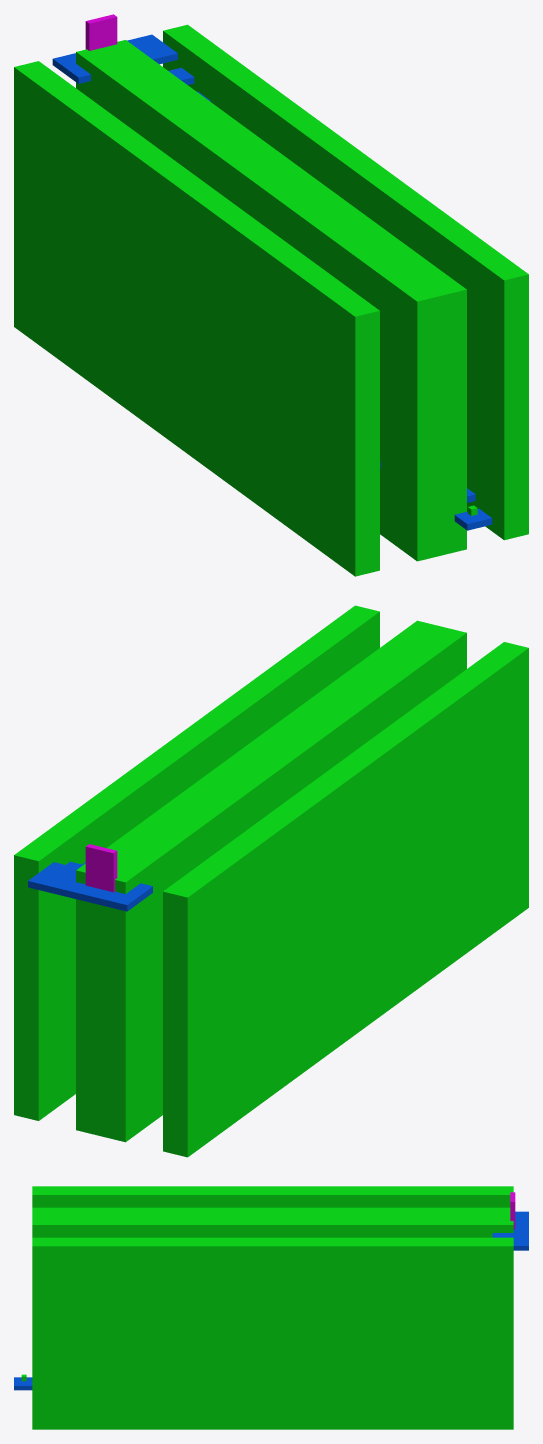
File: level_cora_hard.fbx
3 views of the same model, one above another, from view 1: azimuth 30°, elevation 25°; view 2: azimuth 150°, elevation 25°; view 3: azimuth 270°, elevation 25° (orthographic). The views are drawn at different scales.
Visible parts, largest first — view 1: MovingPlat_pusher_start, MovingPlat_pusher_end, MovingPlat_puller_end, MovingPlat_puller_start, ExitDoor; view 2: MovingPlat_pusher_start, MovingPlat_pusher_end, MovingPlat_puller_end, MovingPlat_puller_start, ExitDoor; view 3: MovingPlat_puller_end, MovingPlat_pusher_start, MovingPlat_puller_start, MovingPlat_pusher_end.
Boxes of the visible parts, box(x1,y1,x2,y2) form: MovingPlat_pusher_start: box(14, 61, 379, 576); MovingPlat_pusher_end: box(76, 47, 441, 561); MovingPlat_puller_end: box(163, 24, 528, 540); MovingPlat_puller_start: box(104, 40, 466, 555); ExitDoor: box(85, 14, 117, 50); MovingPlat_pusher_start: box(163, 642, 528, 1157); MovingPlat_pusher_end: box(101, 626, 466, 1142); MovingPlat_puller_end: box(14, 605, 379, 1120); MovingPlat_puller_start: box(76, 620, 441, 1136); ExitDoor: box(85, 844, 117, 892); MovingPlat_puller_end: box(32, 1237, 513, 1429); MovingPlat_pusher_start: box(32, 1186, 513, 1207); MovingPlat_puller_start: box(32, 1216, 513, 1237); MovingPlat_pusher_end: box(32, 1207, 510, 1216).
Bounding box in the file's own units: 1400 × 2210 × 5091.
